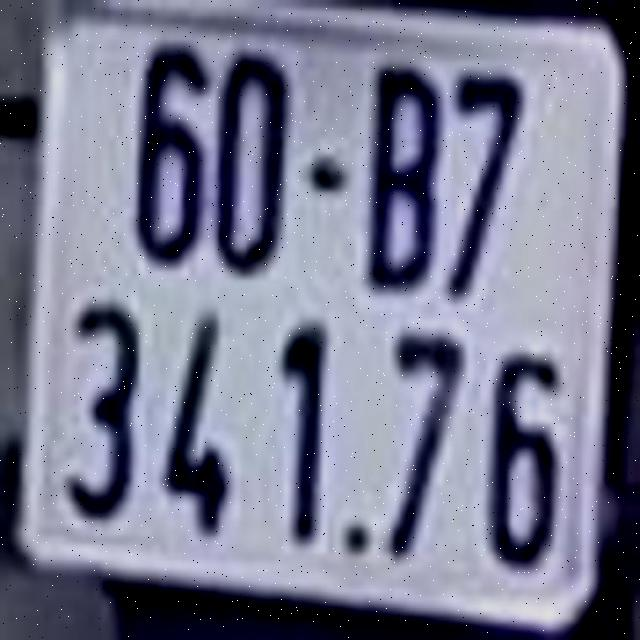0: (213, 51, 286, 274)
1: (276, 321, 329, 545)
3: (67, 302, 138, 520)
4: (164, 309, 233, 539)
6: (489, 344, 564, 570), (135, 44, 205, 266)
7: (386, 328, 465, 560), (448, 69, 525, 300)
B: (366, 63, 440, 294)
